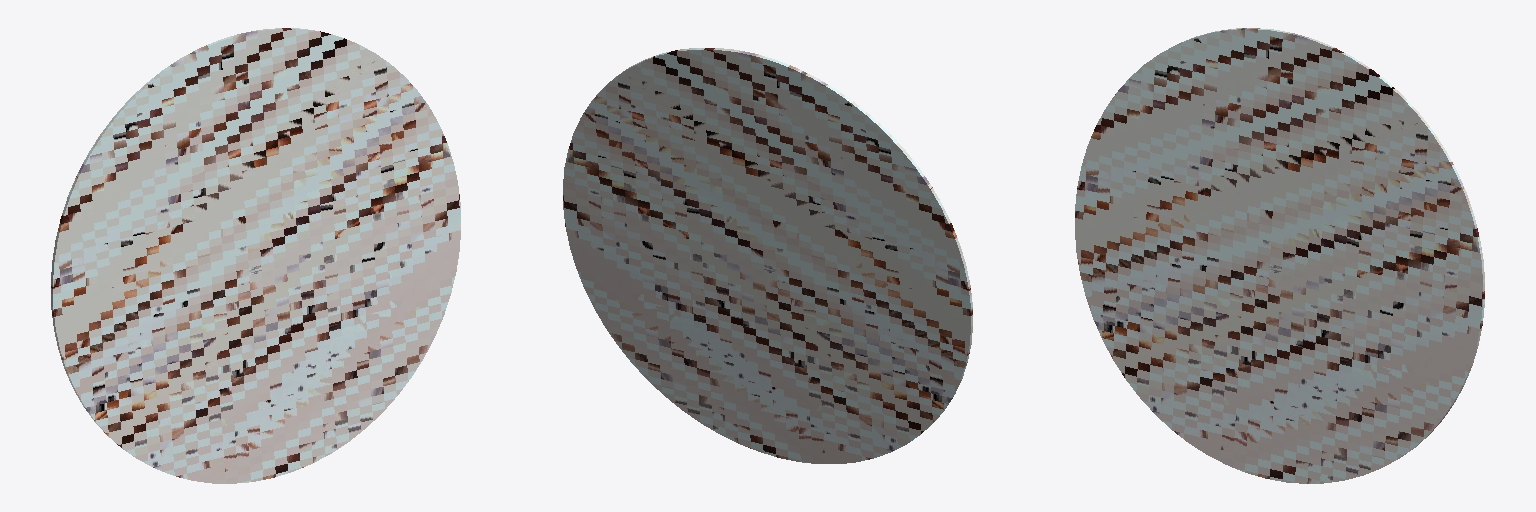
3 renders of one model, left to right at view 1: azimuth 30°, elevation 25°; view 2: azimuth 150°, elevation 25°; view 3: azimuth 330°, elevation 25°, orthographic.
Visible parts, largest first — view 1: Material.001; view 2: Material.001; view 3: Material.001.
Boxes of the visible parts, box(x1,y1,x2,y2) form: Material.001: box(51, 28, 460, 483); Material.001: box(563, 48, 972, 463); Material.001: box(1075, 28, 1484, 483).
Size of the model in its own units: 94.16 by 93.56 by 12.06.
Materials: 1 (1 with a texture image).